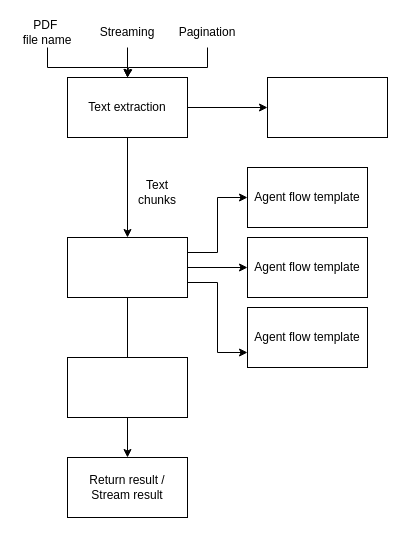
The diagram is 405 pixels wide and 535 high, and some of its shapes have lost their labels. The shapes that lost their labels are listed below. From the top down, each one's centre as x and y in pixels, then its label:
At point 327,107: "Document Intelligence".
At point 127,267: "Execute Agents".
At point 127,387: "Add bounding boxes".
